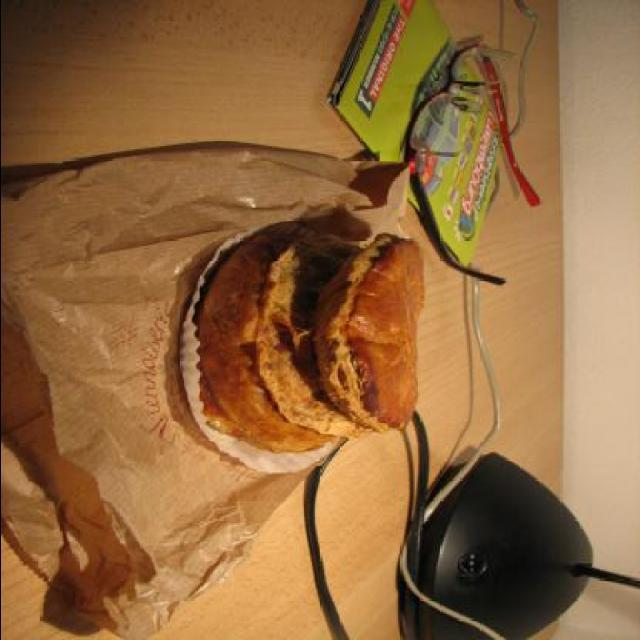Hamburger: (195, 228, 427, 452)
